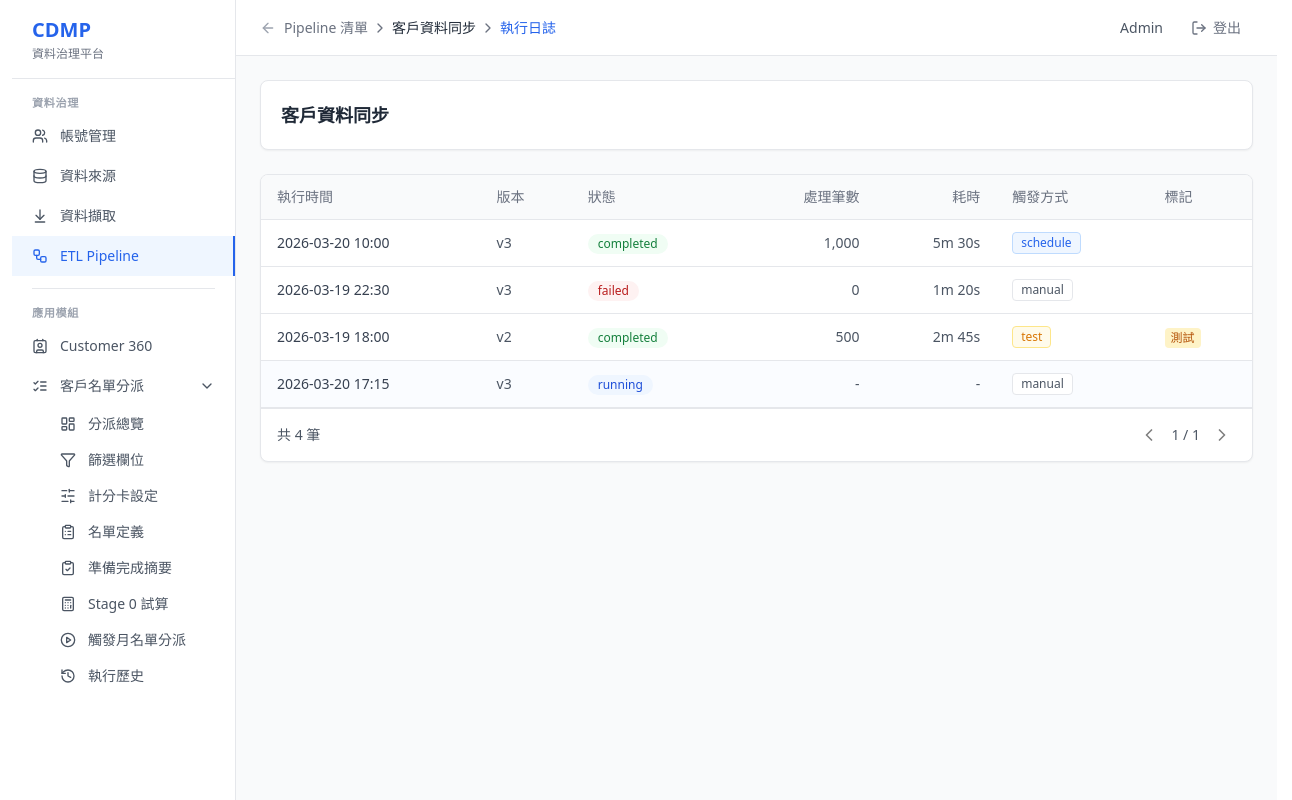
Test: F032: Pipeline Logs Page › should show error message in failed log drawer
Click the row with test id "log-row-log-2" at (756, 290), box x1=261 y1=266 x2=1252 y2=314
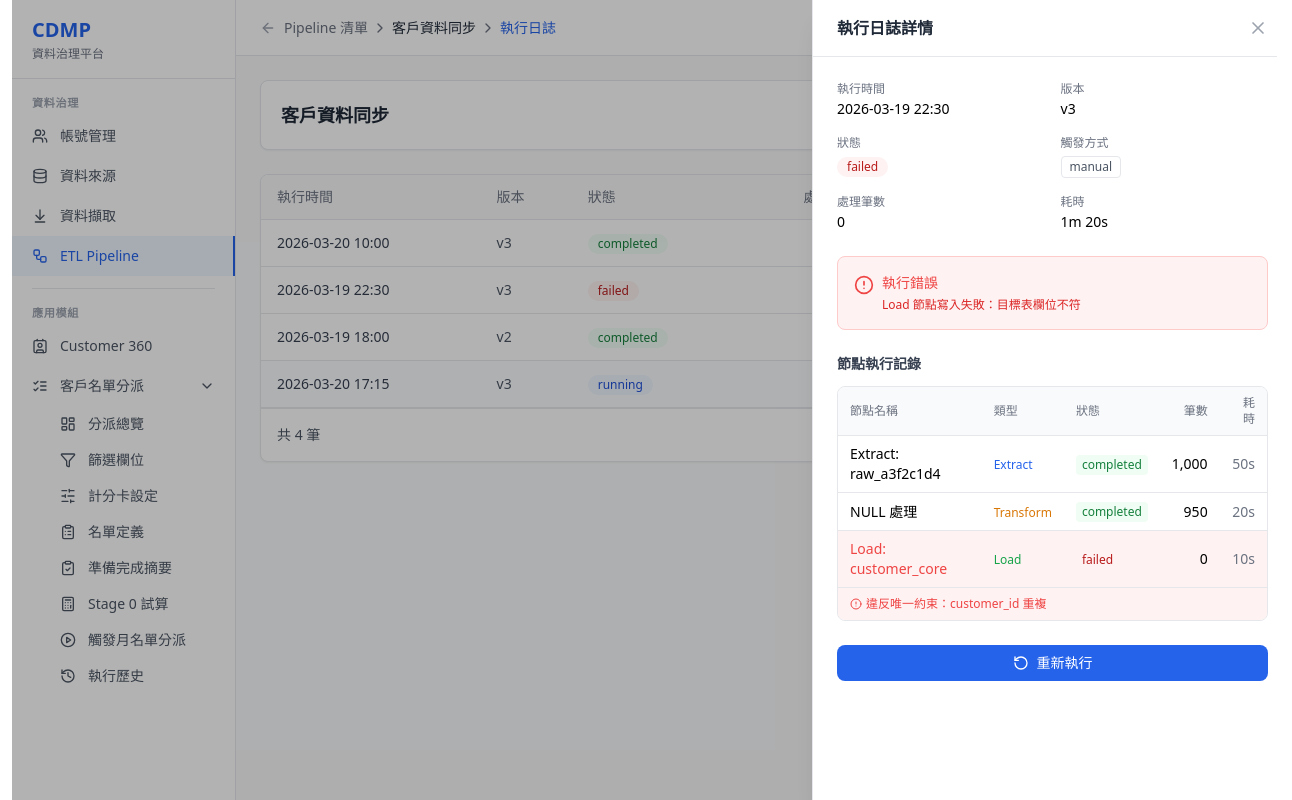
Expected: the text "執行錯誤" is shown, x1=882 y1=273 x2=938 y2=292
Expected: the text "Load 節點寫入失敗：目標表欄位不符" is shown, x1=882 y1=297 x2=1081 y2=313
